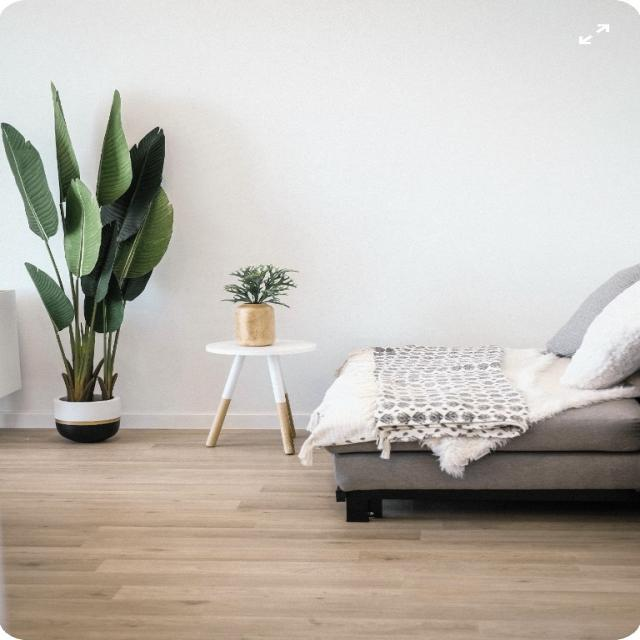potted plant: (2, 74, 175, 452), (206, 254, 300, 349)
sofa: (339, 255, 640, 540)
table: (192, 328, 316, 451)
